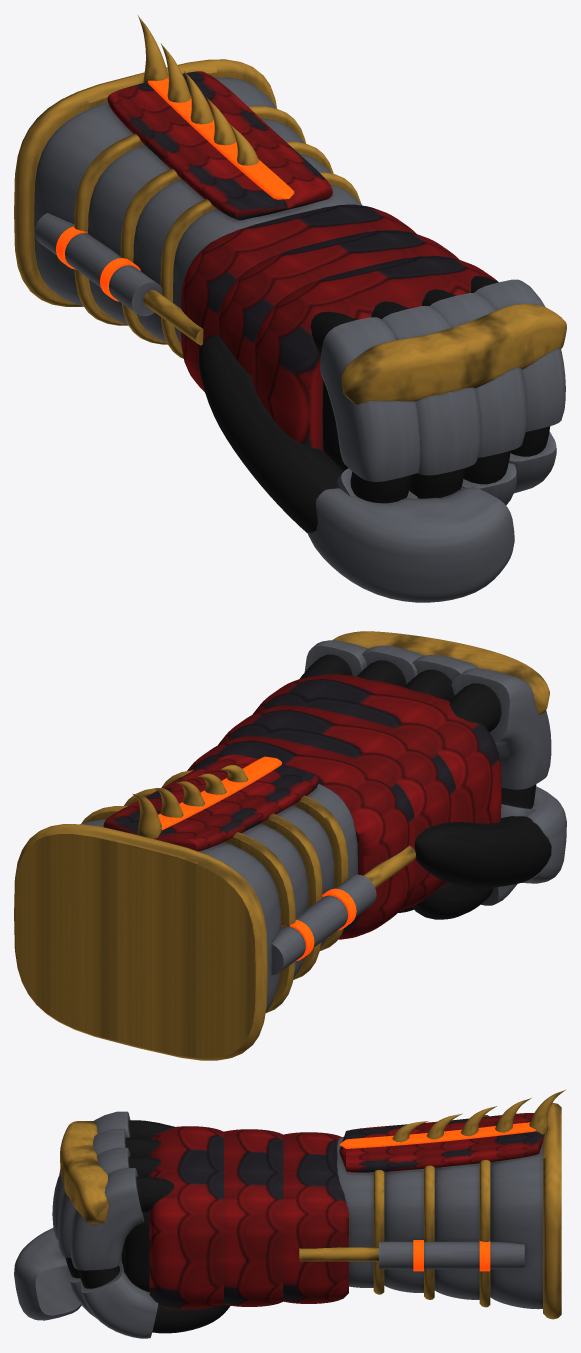
The model's file is dragon_gauntlet_L_hd.glb.
3 renders of one model, top to bottom at view 1: azimuth 30°, elevation 25°; view 2: azimuth 150°, elevation 25°; view 3: azimuth 270°, elevation 25°, orthographic. The views are drawn at different scales.
Visible parts, largest first — view 1: Weapon; view 2: Weapon; view 3: Weapon.
Part boxes in pixels (x1,y1,x2,y2): Weapon: (14,15,566,602); Weapon: (14,631,566,1060); Weapon: (14,1089,565,1338).
Bounding box in the file's own units: 0.3657 × 0.3973 × 0.835.
Materials: 1 (1 with a texture image).
